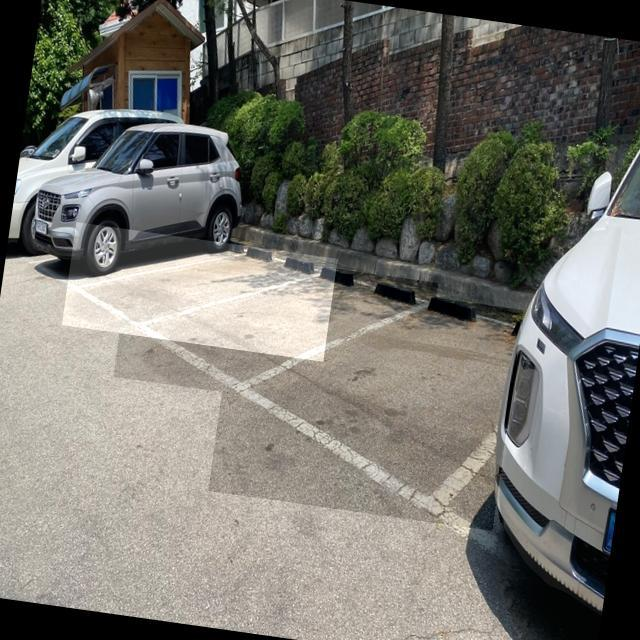empty: (223, 296, 522, 523), (122, 266, 435, 395), (68, 245, 336, 335)
